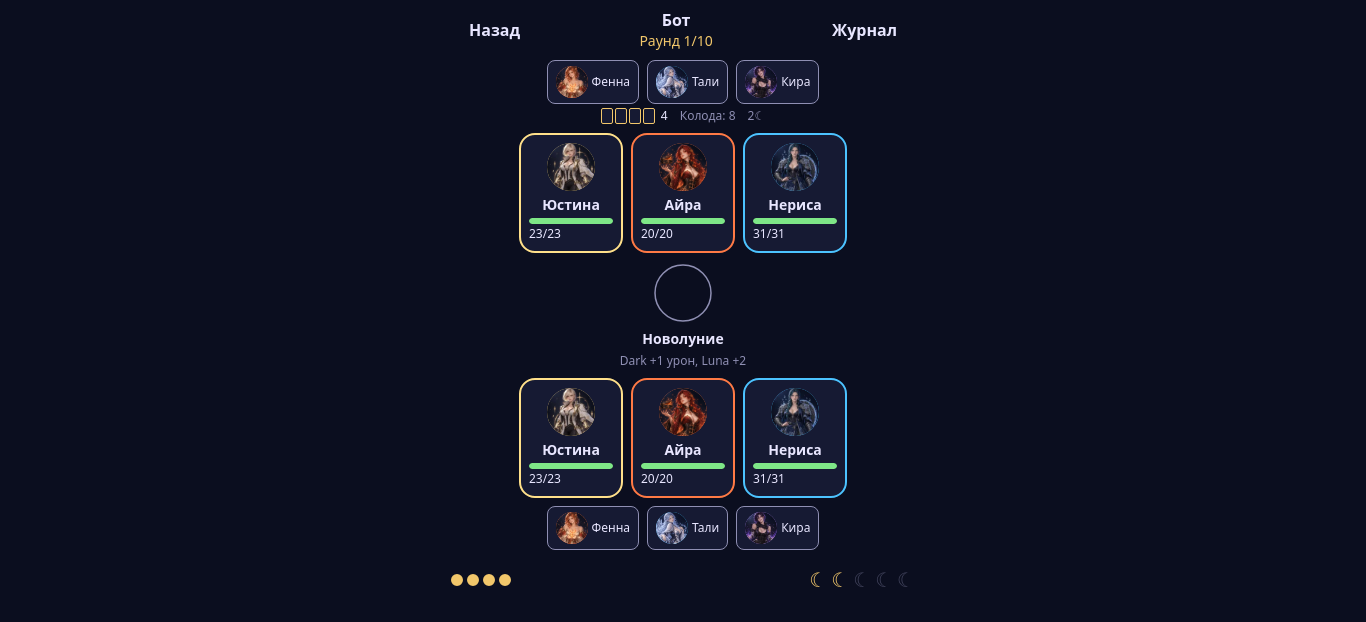
Test: экран боя: «Назад» и сдача › «Назад» спрашивает подтверждение; «Да» сдаёт матч и ведёт на результат с поражением
The width and height of the screenshot is (1366, 622).
Expected: the element with test id "battle" is shown, [451,8,915,52]
Click the button "Назад" at (495, 30), box [451,8,538,52]
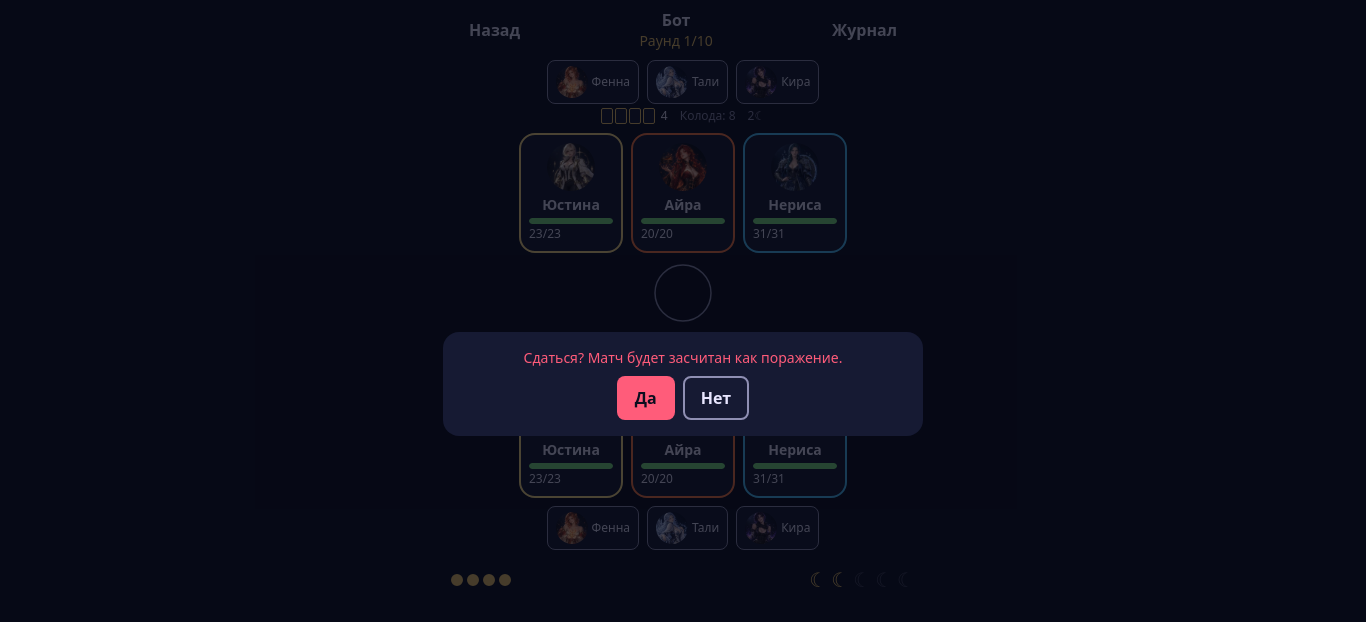
Expected: the text "Сдаться? Матч будет засчитан как поражение." is shown, [524,348,842,367]
Click the button "Да" at (646, 398), box [617,376,675,420]
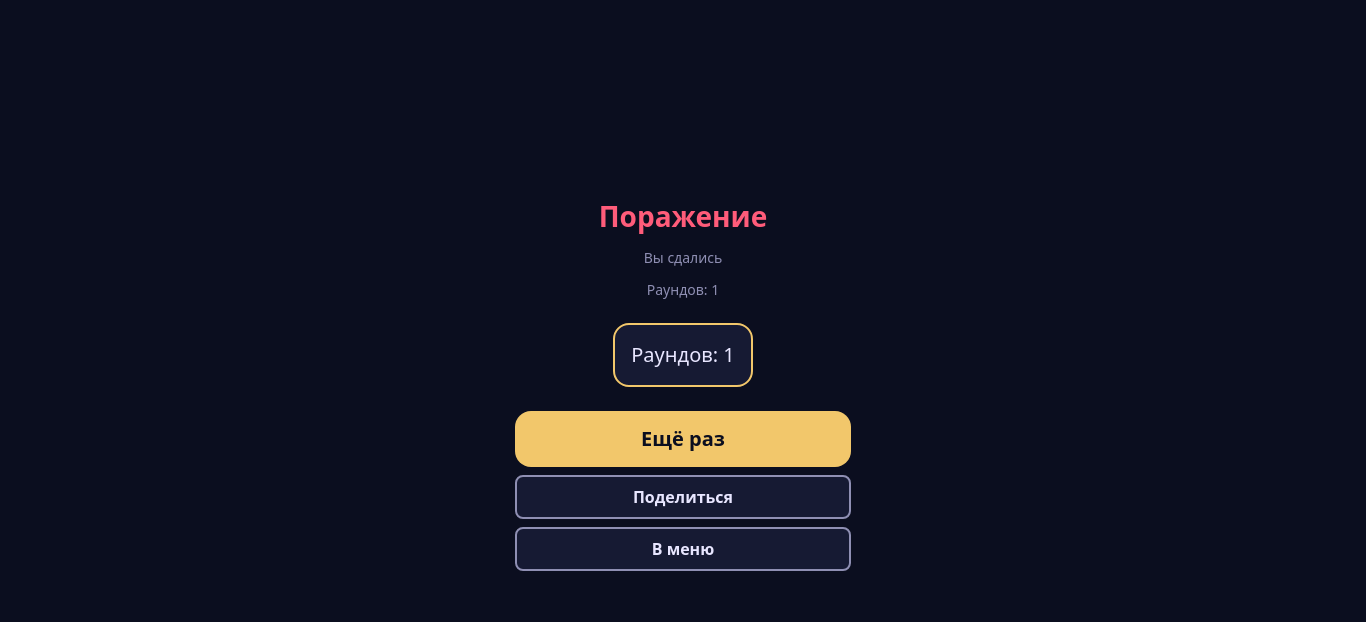
Expected: the element with test id "result" shows "Поражение", [599,197,767,235]
Expected: the text with test id "result-reason" reads "Вы сдались", [644,248,722,267]
